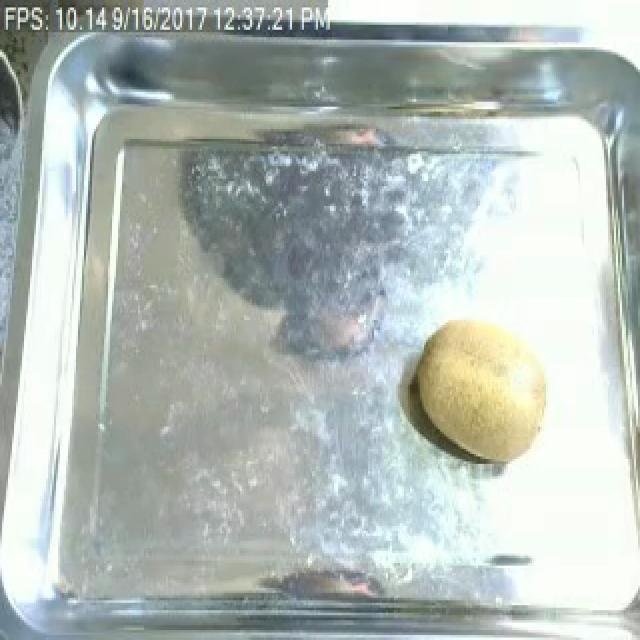Fruit: (408, 307, 558, 473)
